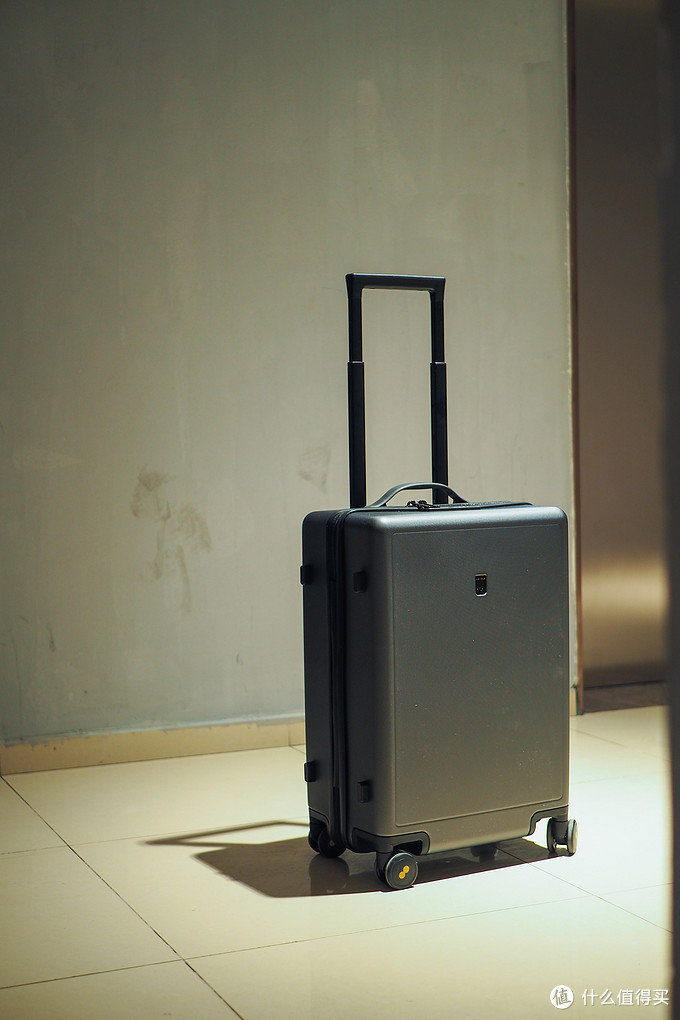box: (303, 504, 569, 856)
handle: (365, 482, 469, 506)
wheel: (374, 848, 418, 891), (545, 818, 578, 855), (308, 825, 347, 856)
